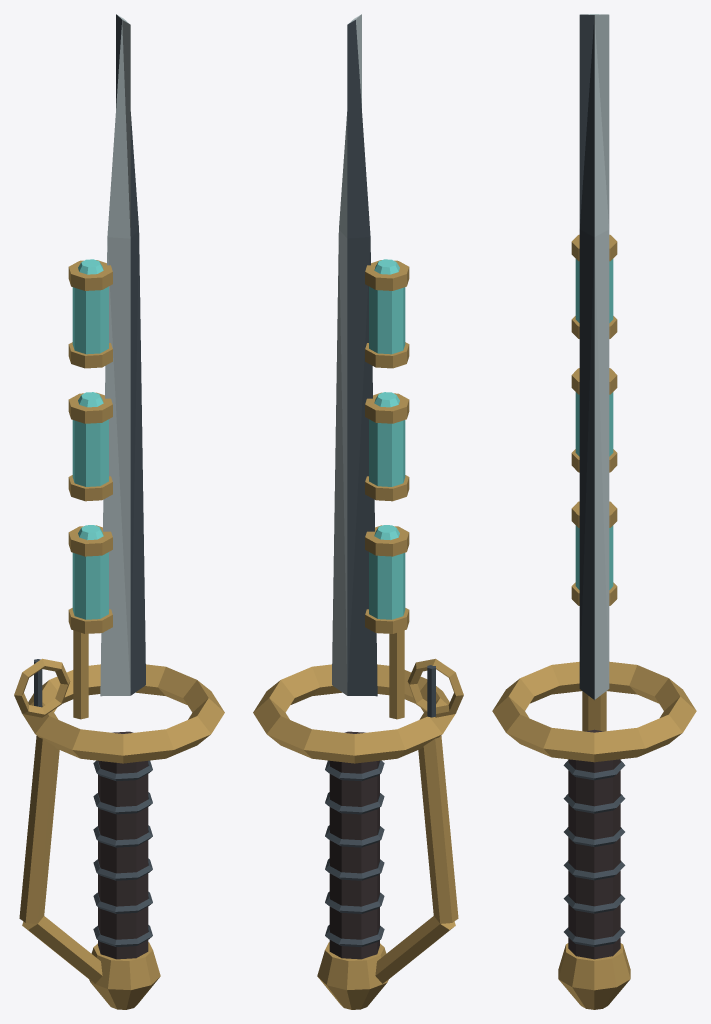
Rendered from UniversalSolvent.fbx.
3 views of the same model, side by side, from view 1: azimuth 30°, elevation 25°; view 2: azimuth 150°, elevation 25°; view 3: azimuth 270°, elevation 25° (orthographic).
Visible parts, largest first — view 1: Legendary_UniversalSolvent; view 2: Legendary_UniversalSolvent; view 3: Legendary_UniversalSolvent.
Boxes of the visible parts, x1,y1,x2,y2 form: Legendary_UniversalSolvent: [14, 14, 224, 1009]; Legendary_UniversalSolvent: [253, 14, 463, 1009]; Legendary_UniversalSolvent: [492, 14, 696, 1009].
Size of the model in its own units: 0.28 by 1.34 by 0.25.
